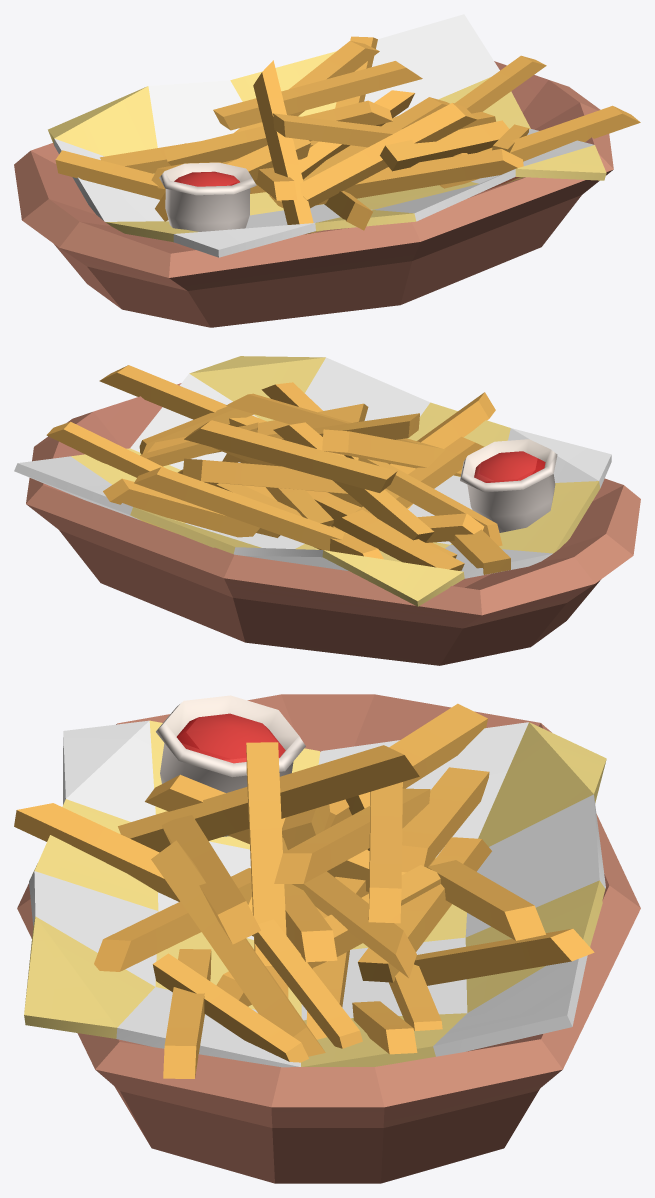
The model's file is Fries_Mesh.fbx.
3 renders of one model, top to bottom at view 1: azimuth 30°, elevation 25°; view 2: azimuth 150°, elevation 25°; view 3: azimuth 270°, elevation 25°, orthographic. The views are drawn at different scales.
Visible parts, largest first — view 1: Fries_Mesh; view 2: Fries_Mesh; view 3: Fries_Mesh.
Part boxes in pixels (x1,y1,x2,y2): Fries_Mesh: (14,14,640,327); Fries_Mesh: (14,356,640,665); Fries_Mesh: (14,694,640,1183).
Bounding box in the file's own units: 27.25 × 8.12 × 17.91.
1 material, 1 textured.
